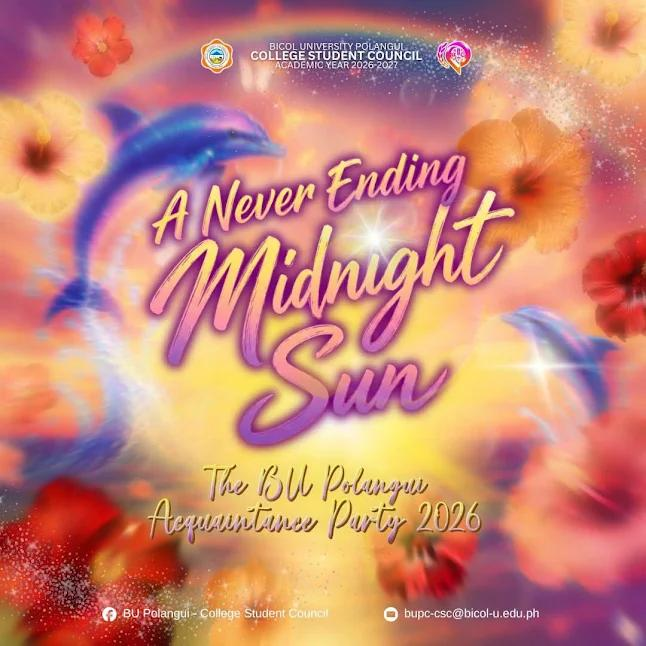embellishment: (100, 602, 120, 624), (381, 603, 400, 624)
logo: (434, 37, 477, 76), (199, 36, 236, 75)
text: (136, 120, 523, 455), (142, 457, 494, 547), (247, 40, 426, 71), (120, 606, 332, 622), (402, 606, 543, 622)
